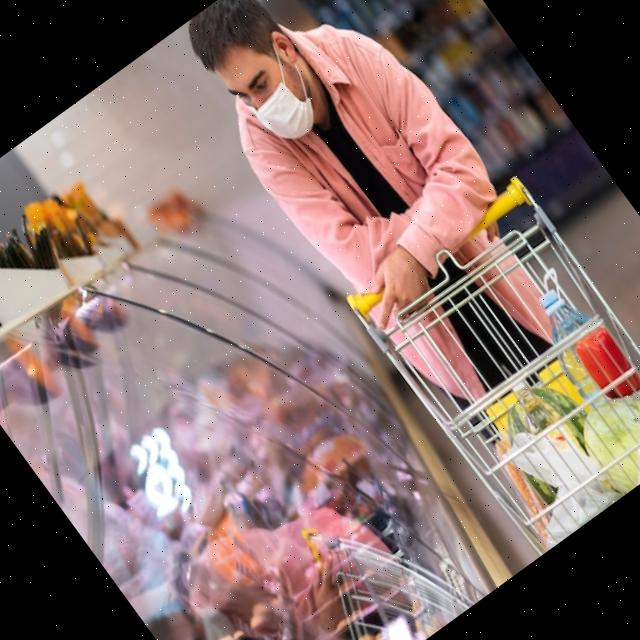Person: (159, 0, 594, 425)
